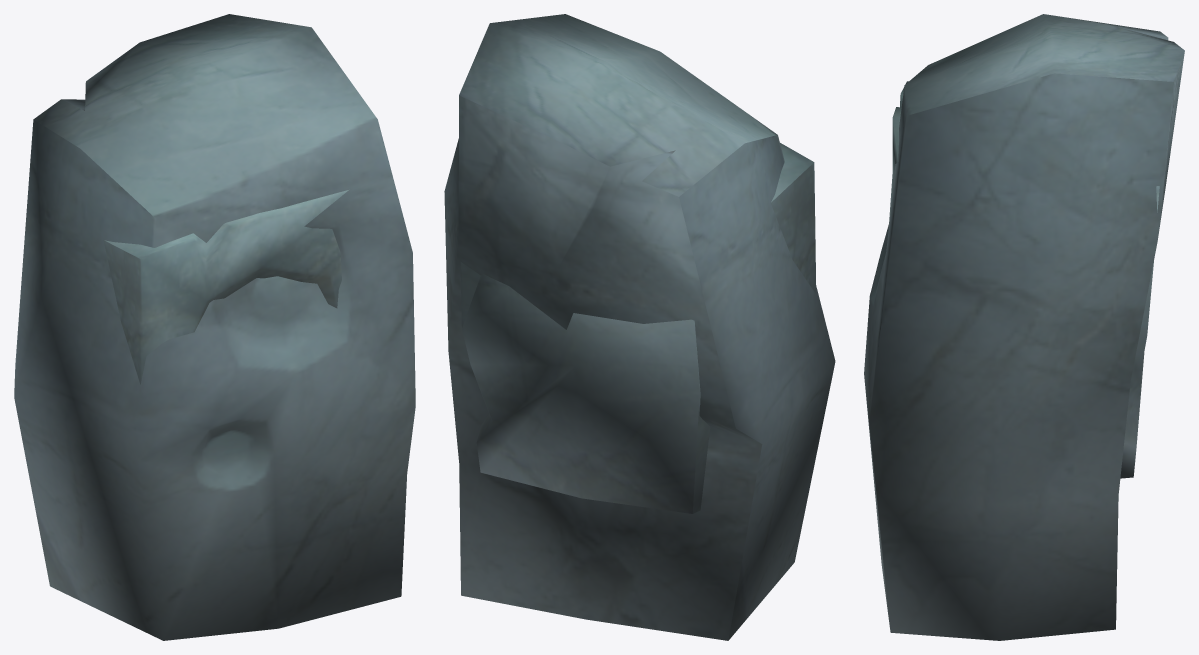
File: speaker_rocks_01.fbx
The picture shows the model from 3 angles, left to right: view 1: azimuth 30°, elevation 25°; view 2: azimuth 150°, elevation 25°; view 3: azimuth 270°, elevation 25°; orthographic projection. The views are drawn at different scales.
Parts seen in each view (by area): view 1: speaker_rock_1, speaker_rock_2; view 2: speaker_rock_1, speaker_rock_2; view 3: speaker_rock_1, speaker_rock_2.
Part boxes in pixels (left/top/right/bottom): speaker_rock_1: left=14, top=14, right=415, bottom=640; speaker_rock_2: left=103, top=190, right=348, bottom=384; speaker_rock_1: left=444, top=14, right=835, bottom=640; speaker_rock_2: left=460, top=143, right=816, bottom=513; speaker_rock_1: left=864, top=14, right=1184, bottom=640; speaker_rock_2: left=888, top=81, right=1159, bottom=478.
Size of the model in its own units: 1.98 by 3.21 by 1.67.
